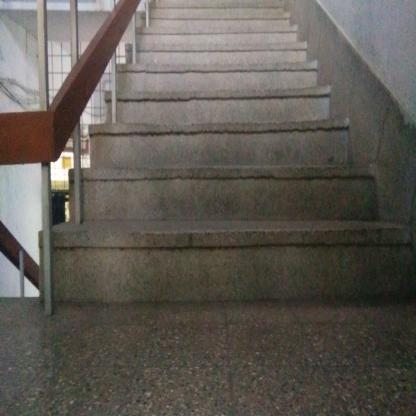stairs: (115, 99, 315, 329)
